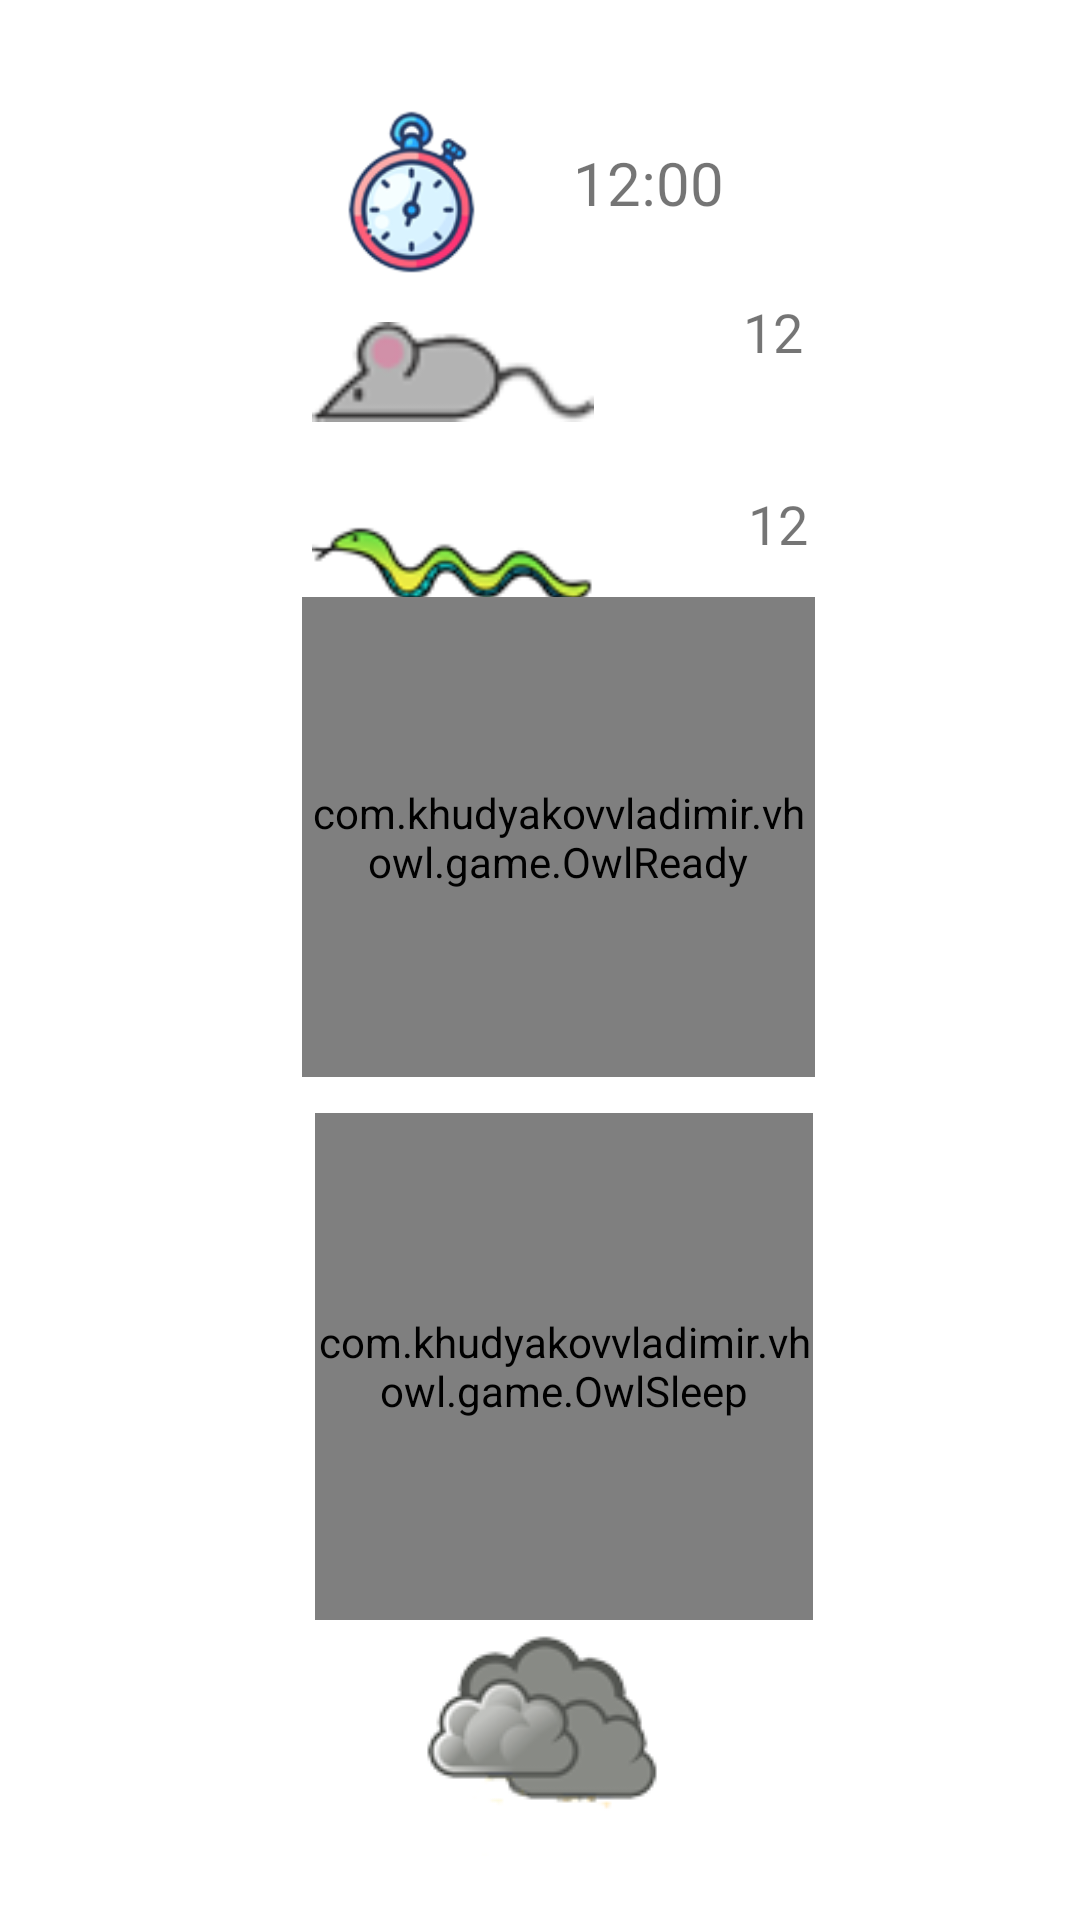

Named icons in this screenshot (1080 x 1920) and their centers, [x,y]:
cloud: [542,1722]
mouse: [453,372]
timer: [411,192]
